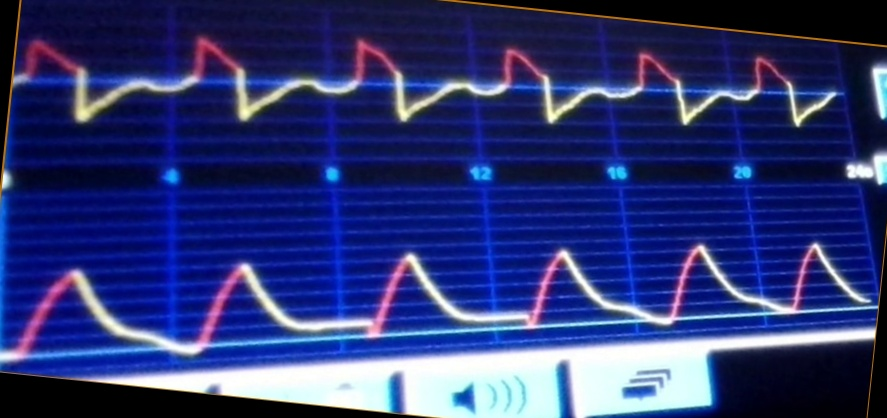Ineffective_effort Flow: (18, 26, 832, 153)
Ineffective_effort Volume: (2, 224, 864, 360)
